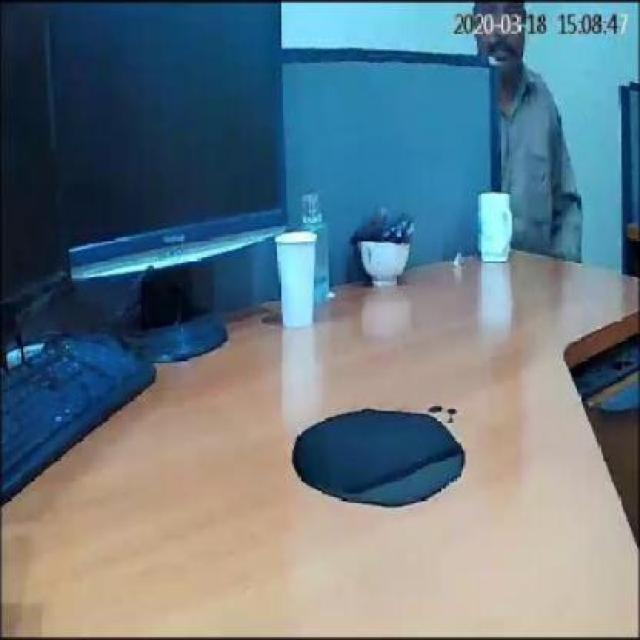spillage: (291, 409, 467, 510)
